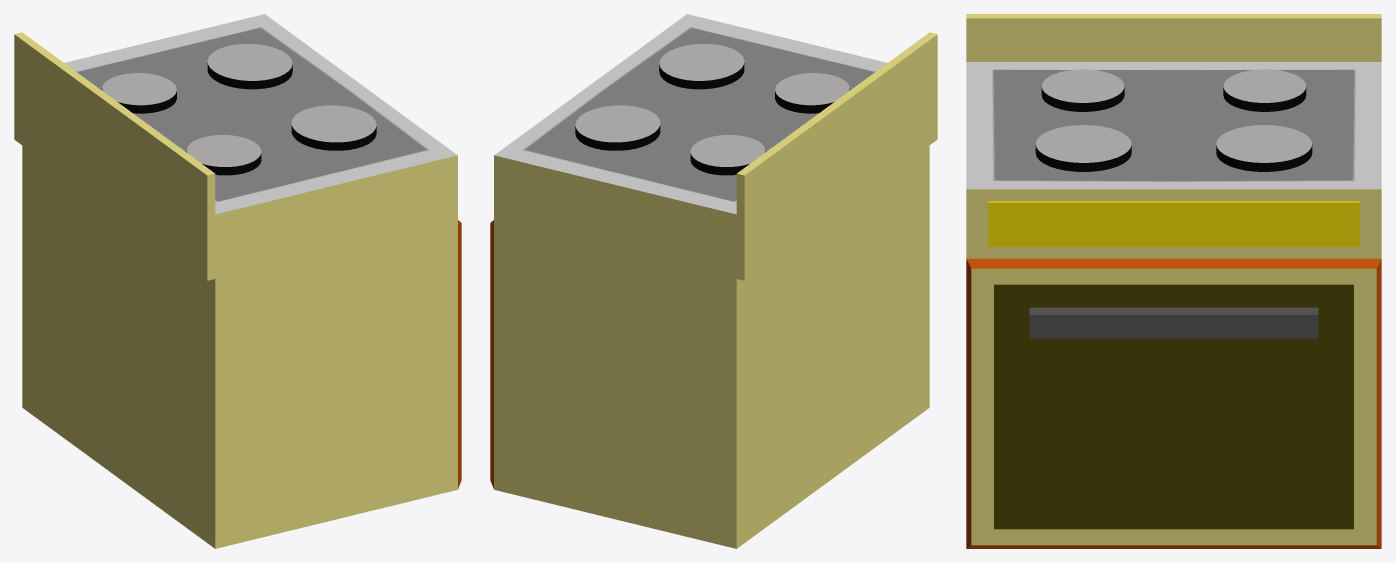
File: Horno.fbx
3 renders of one model, left to right at view 1: azimuth 30°, elevation 25°; view 2: azimuth 150°, elevation 25°; view 3: azimuth 270°, elevation 25°, orthographic. The views are drawn at different scales.
Visible parts, largest first — view 1: Cube; view 2: Cube; view 3: Cube.
Part boxes in pixels (x1=…): Cube: x1=14, y1=14, x2=461, y2=548; Cube: x1=490, y1=14, x2=937, y2=548; Cube: x1=966, y1=14, x2=1381, y2=548.
Size of the model in its own units: 340 by 450 by 420.
